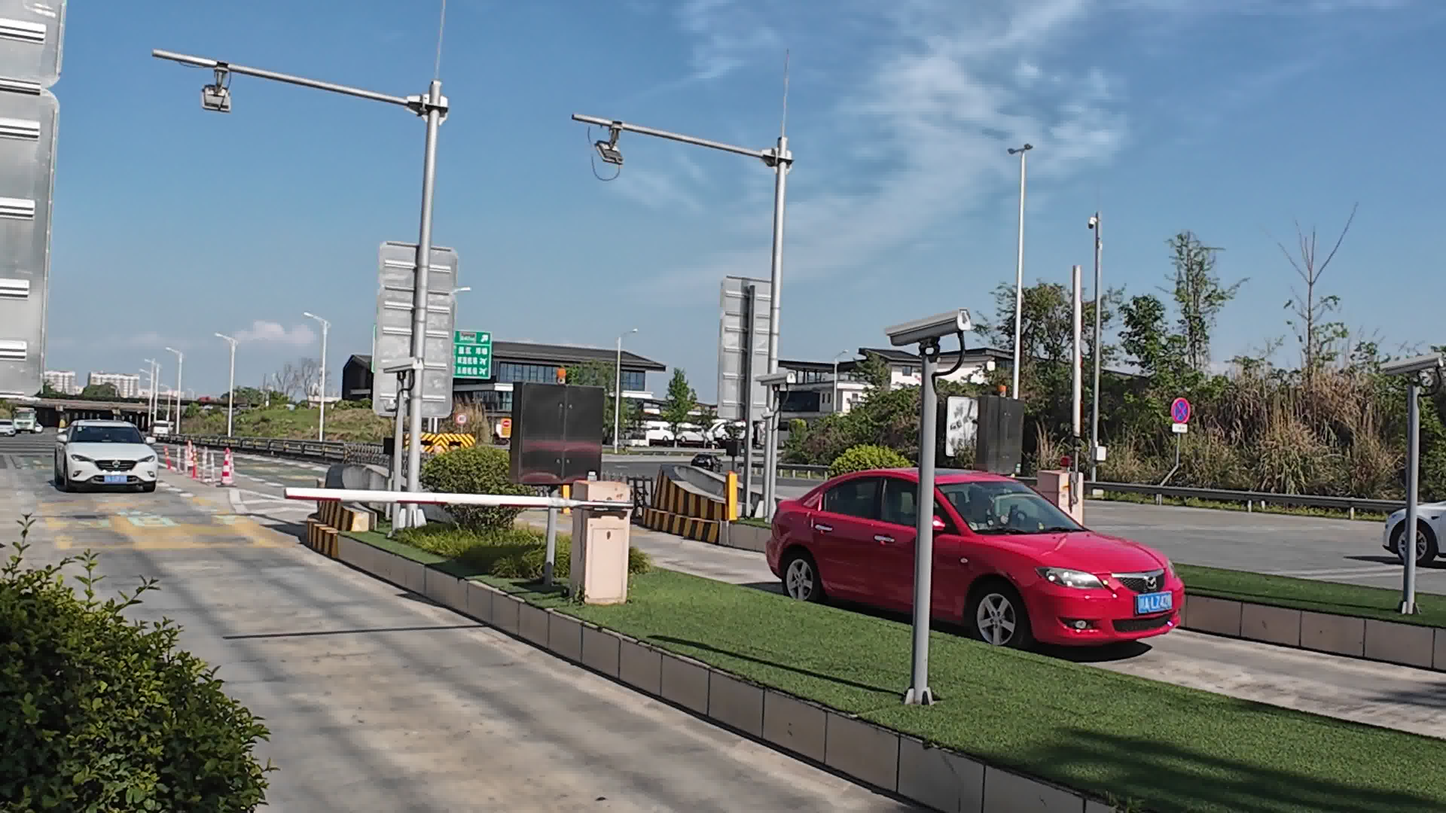lane_sign: (451, 322, 492, 389)
led_screen: (507, 388, 617, 491), (969, 399, 1027, 475)
roadside_plant: (1061, 284, 1446, 507), (3, 557, 269, 813), (431, 435, 546, 543), (187, 382, 370, 441), (782, 404, 912, 475)
warning_sign: (377, 248, 459, 409), (724, 277, 777, 418), (1172, 393, 1193, 435)
